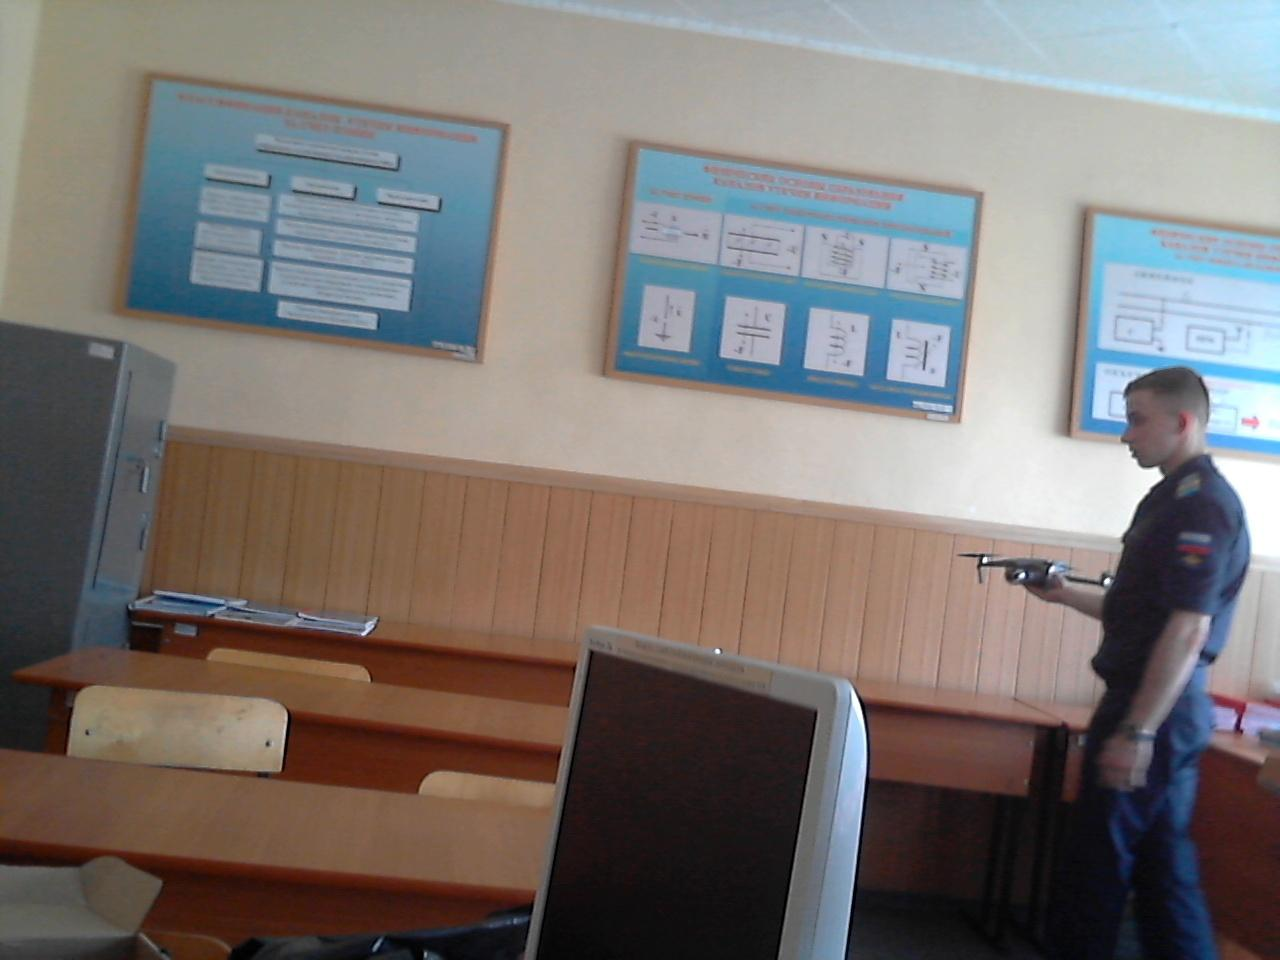drone: (950, 524, 1141, 617)
